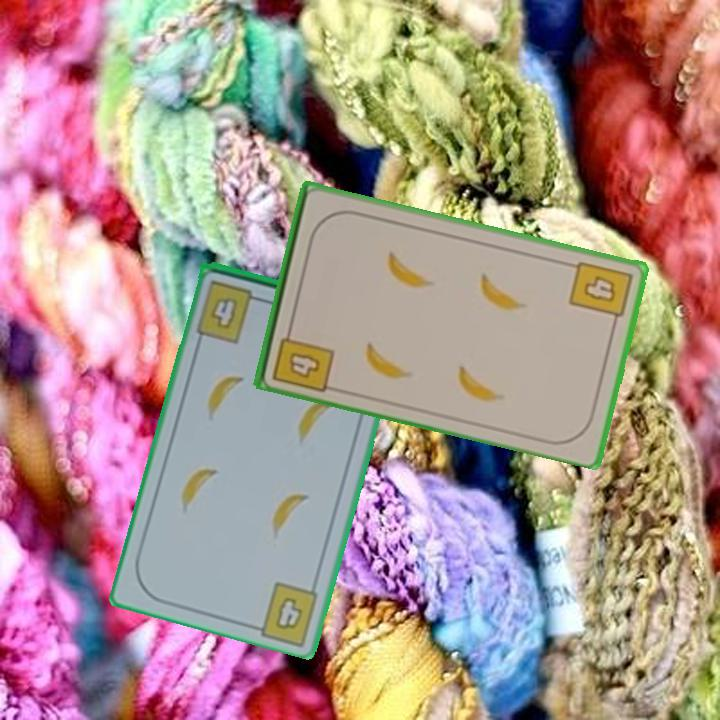4b: (192, 277, 268, 346), (268, 320, 337, 395), (565, 257, 635, 329), (272, 593, 306, 633)
